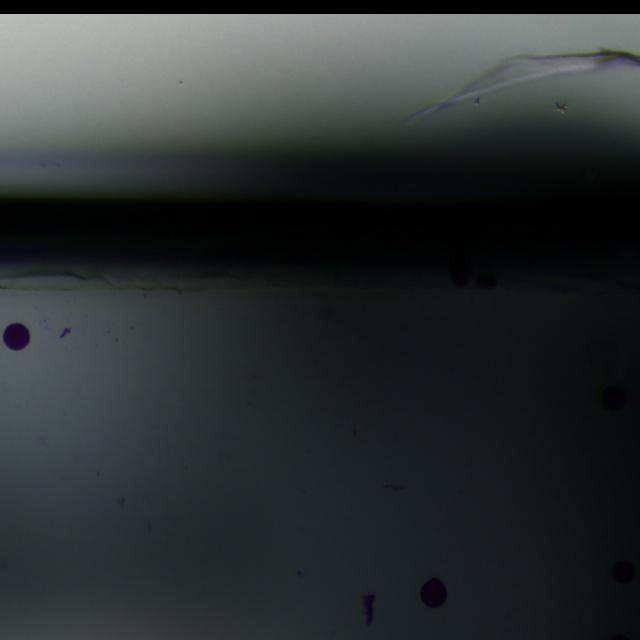viable: (421, 578, 446, 607), (3, 323, 29, 349)
